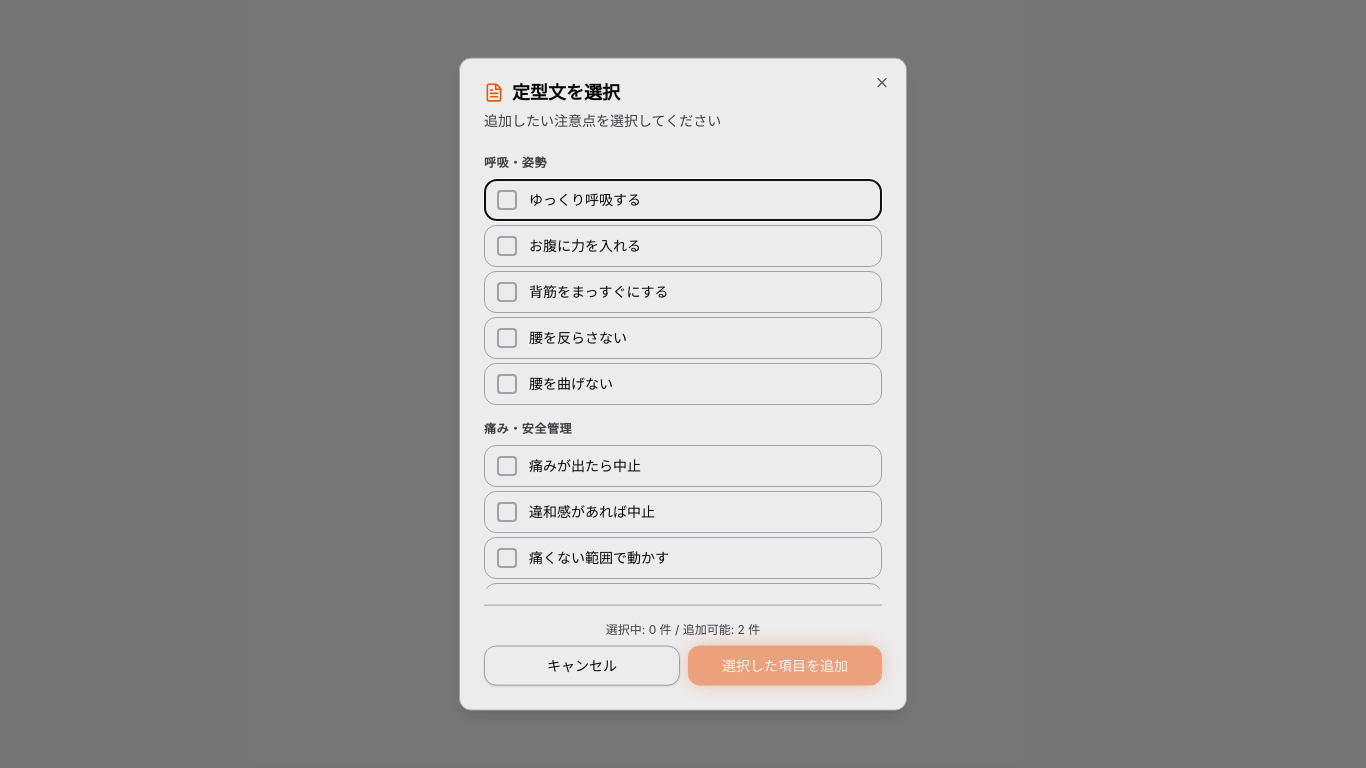
PrecautionSnippetDialog › 選択制限 › currentCount=3 のとき、残り2件まで選択可能
This screenshot has width=1366, height=768.
Expected: the text "選択中: 0 件 / 追加可能: 2 件" is shown, top-left (606, 621), bottom-right (760, 636)
Click the button "ゆっくり呼吸する" at {"x": 585, "y": 199}, box top-left (484, 179), bottom-right (882, 221)
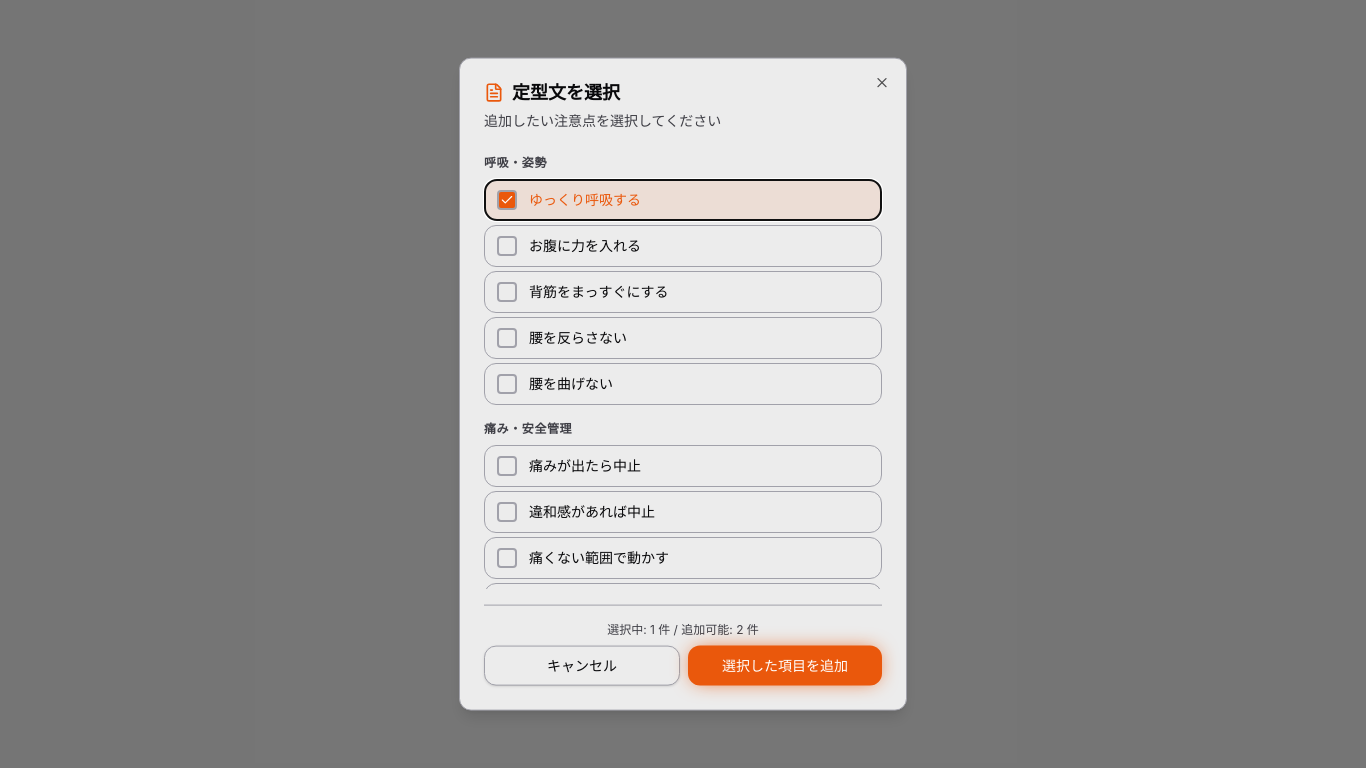
Click the button "痛みが出たら中止" at {"x": 585, "y": 465}, box top-left (484, 445), bottom-right (882, 487)
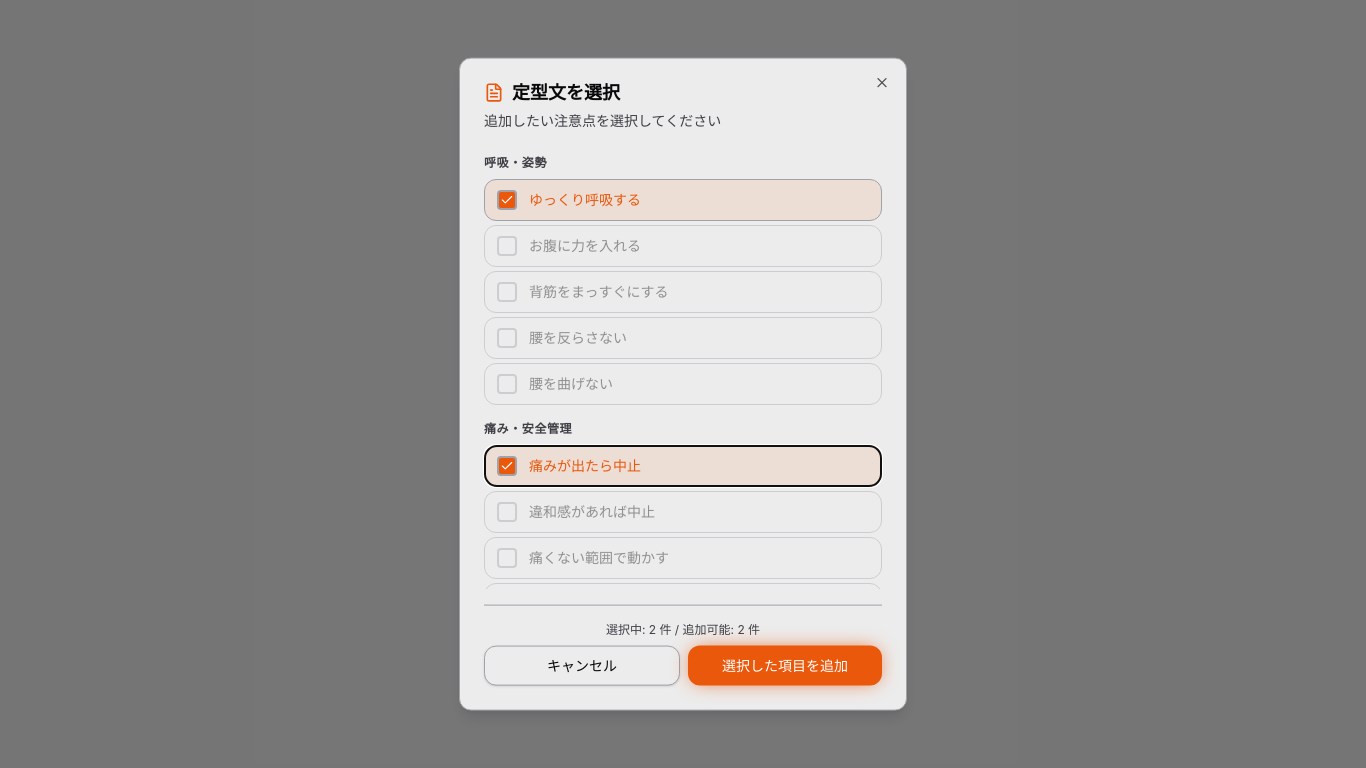
Result: the text "選択中: 2 件 / 追加可能: 2 件" is shown at top-left (606, 621), bottom-right (760, 636)
